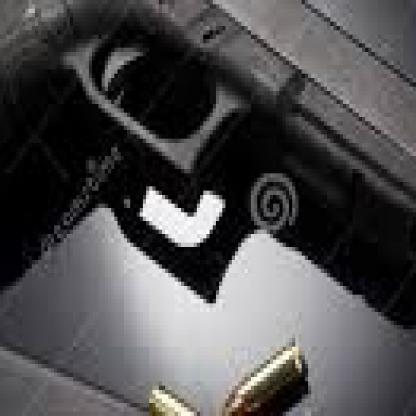gun: (0, 0, 414, 356)
